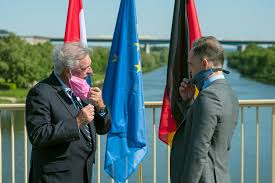mask_weared_incorrect: (81, 61, 96, 98), (183, 57, 203, 82)
